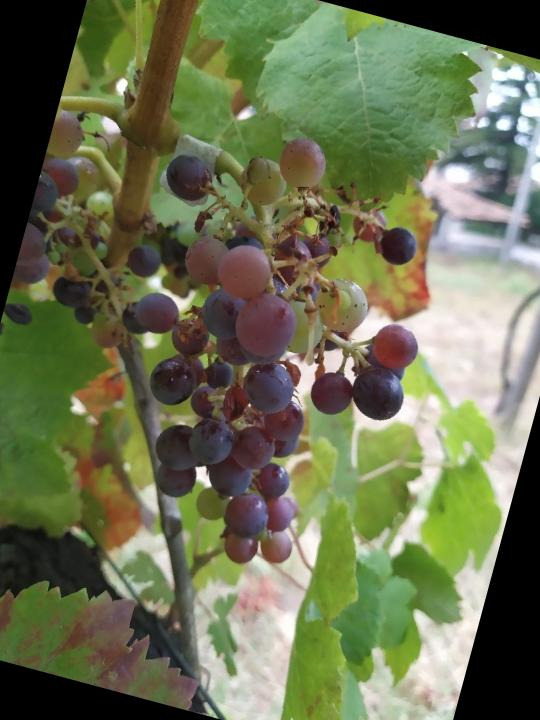grape: (0, 75, 470, 603)
